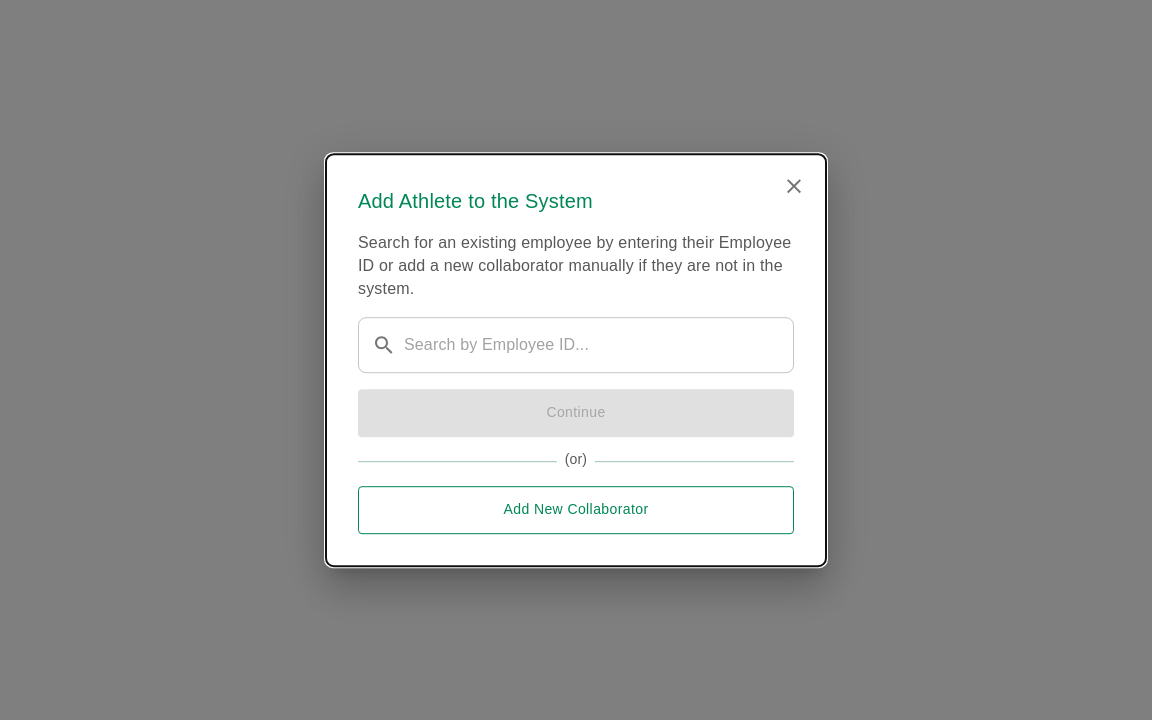
Test case: UserCreation › shows search results and allows selection
This screenshot has width=1152, height=720.
Type "E" into the field with placeholder "Search by Employee ID...". click: (592, 345)
box: [404,317,780,373]
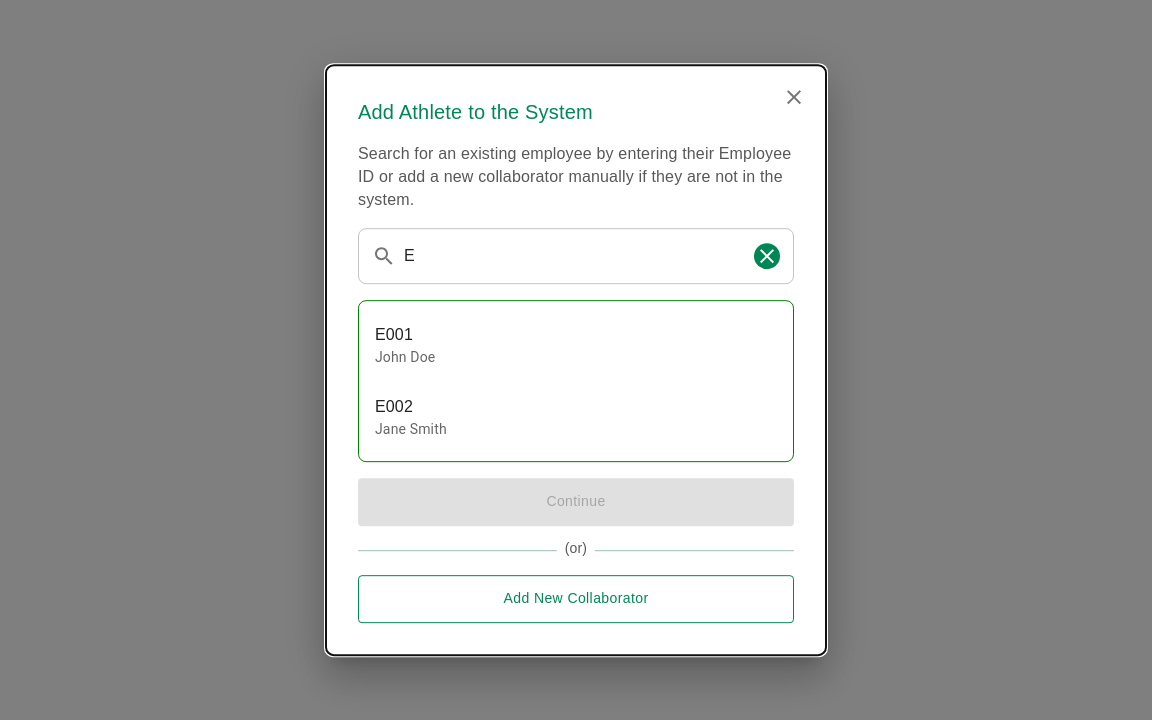
Result: the text "E001" is shown
Result: the text "E002" is shown at [375,398,413,415]
Click the text "E001". click: (394, 334)
box: [375,326,413,343]
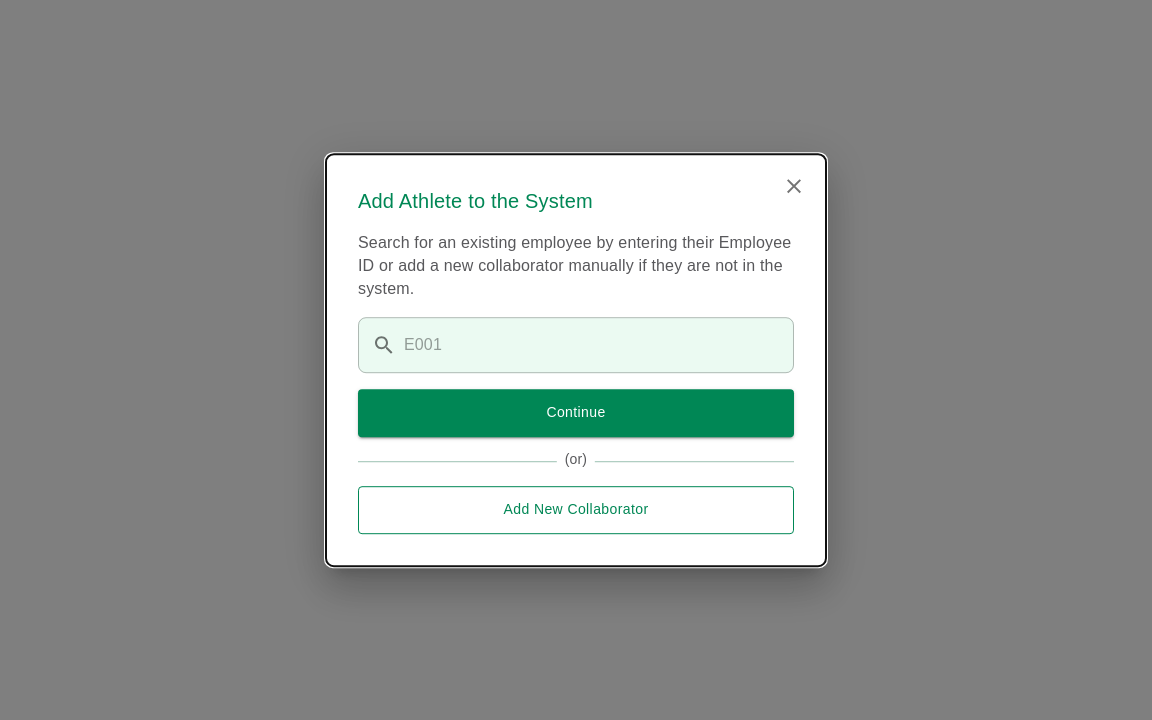
Result: the button "Continue" is enabled at [358,389,794,437]
